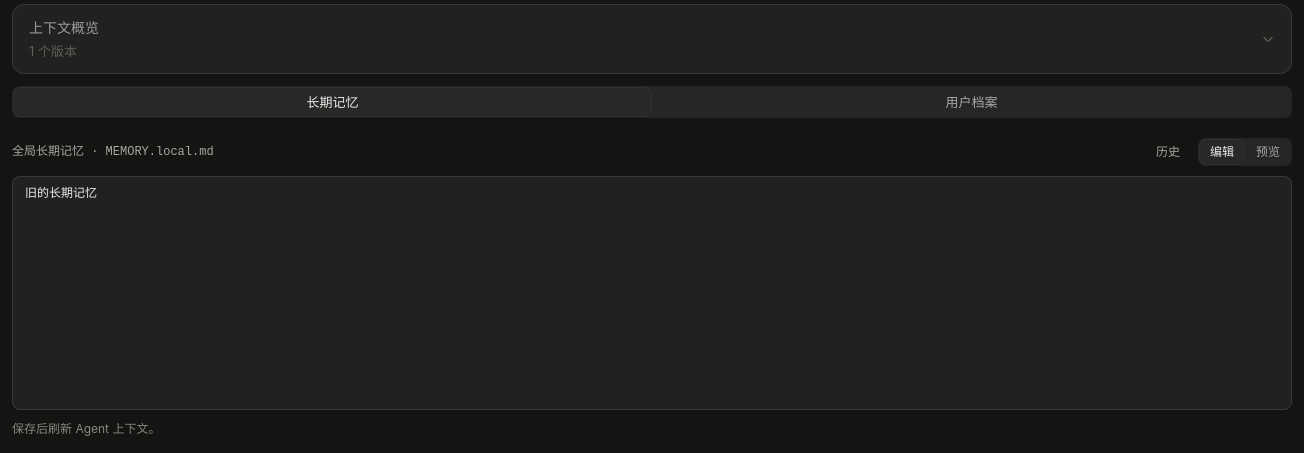
Scenario: MemorySection (UI-S07) › opens the version list from the editor’s 历史 button
Click the button with test id "memory-history" at (1168, 152), box [1146,138,1190,166]
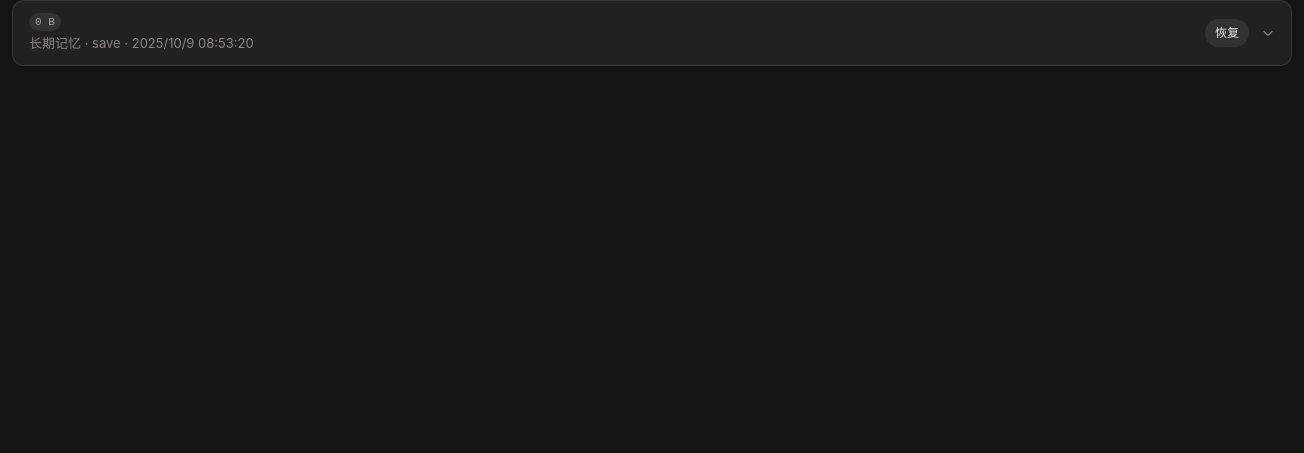
Check: the element showing "0 B 长期记忆 · save · 2025/10/9 08:53:20 恢复" is shown, box [12,0,1292,66]
Check: the text box is gone
